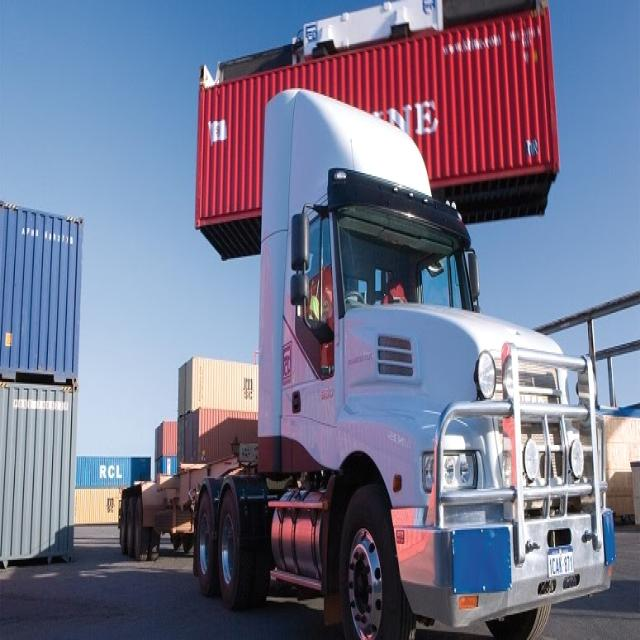TRUCK: (183, 68, 624, 640)
